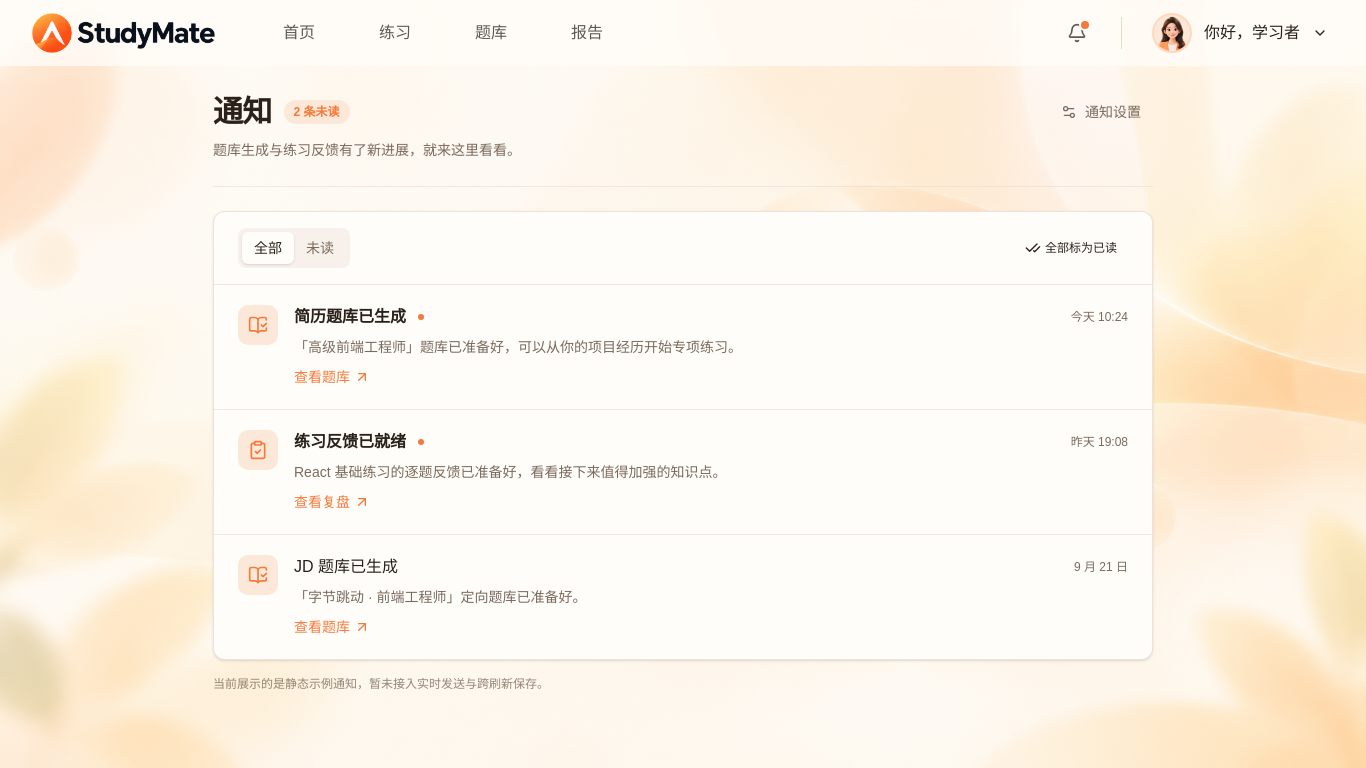
Scenario: StudyMate home page › marks a notification read when opening its destination
Click the heading "练习反馈已就绪" at (350, 442), box top-left (294, 430), bottom-right (406, 454)
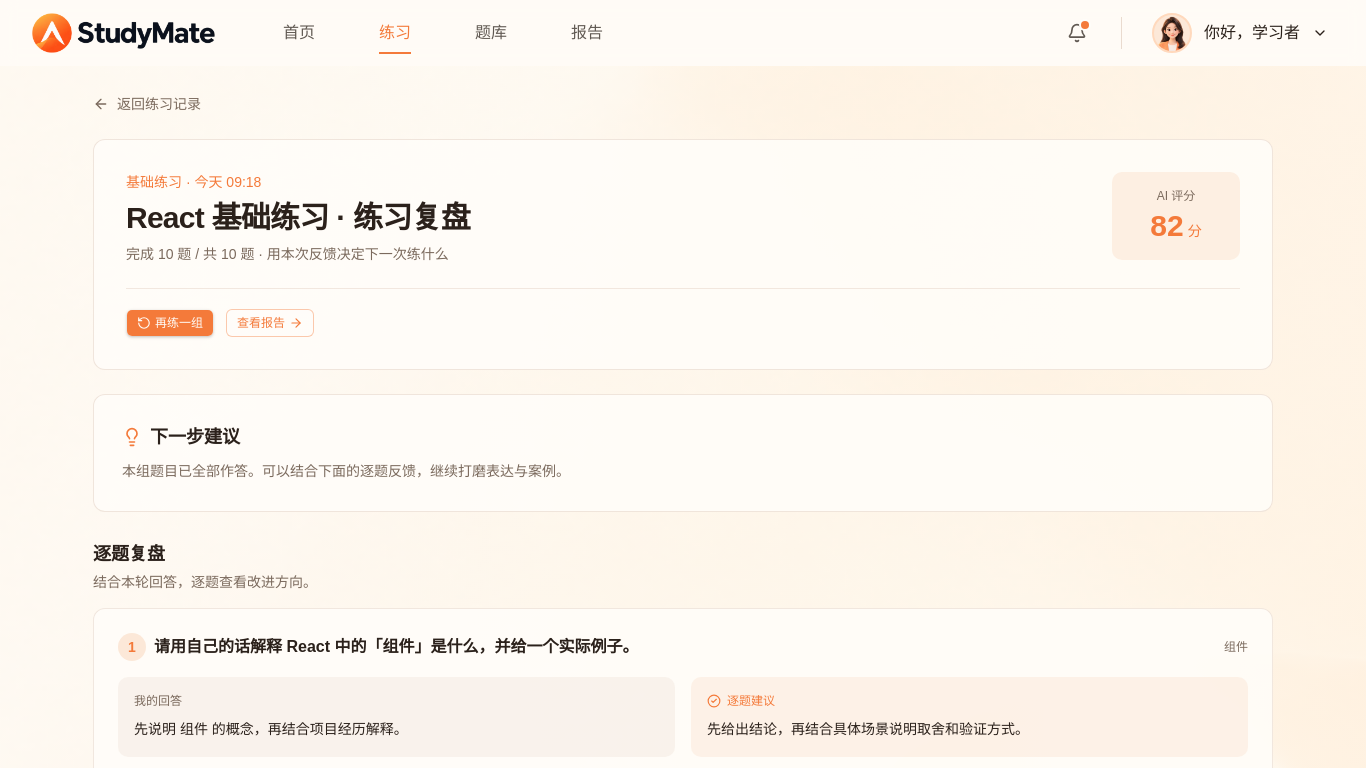
Now the heading "React 基础练习 · 练习复盘" is shown, box top-left (126, 200), bottom-right (470, 236)
Click the link named "查看通知" at (1078, 32), box top-left (1067, 21), bottom-right (1089, 43)
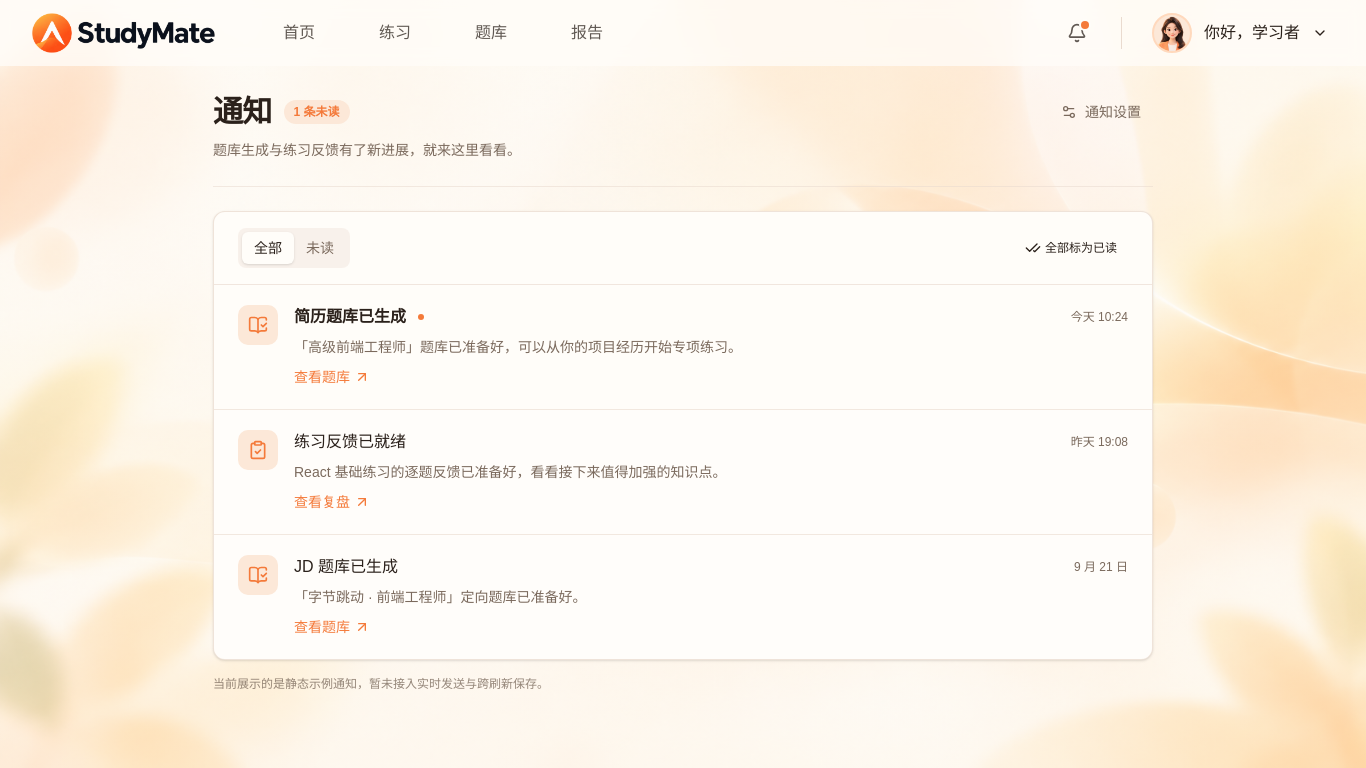
Click the button "未读" at (320, 248), box top-left (294, 232), bottom-right (346, 264)
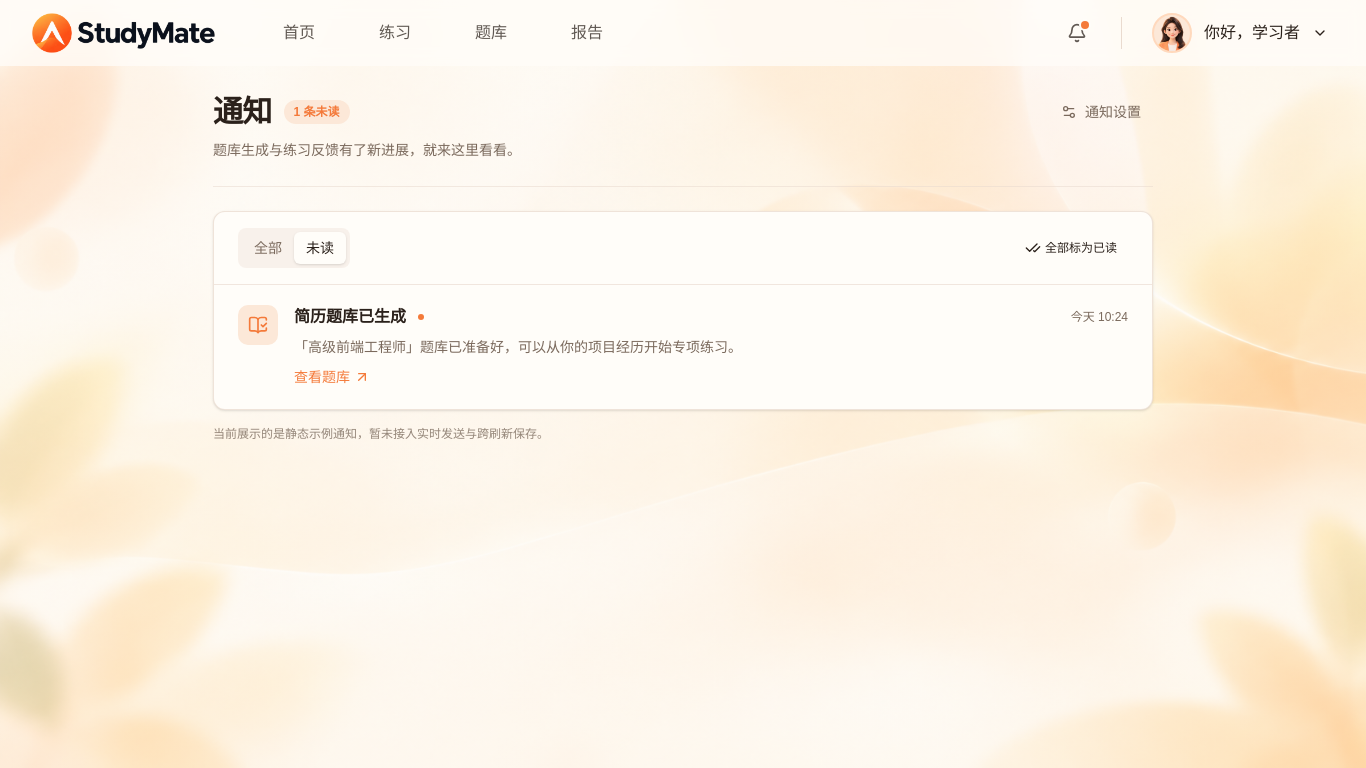
Now the link "练习反馈已就绪" is gone
